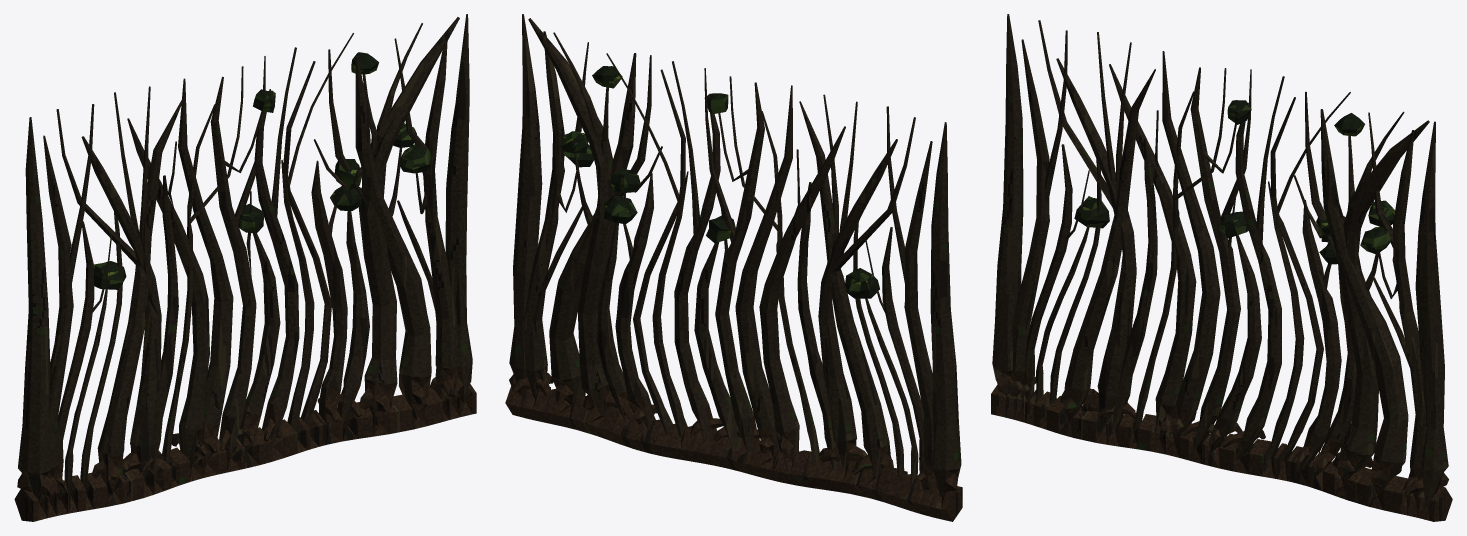
The model's file is forest_bars.glb.
3 renders of one model, left to right at view 1: azimuth 30°, elevation 25°; view 2: azimuth 150°, elevation 25°; view 3: azimuth 330°, elevation 25°, orthographic.
Visible parts, largest first — view 1: ForestBars; view 2: ForestBars; view 3: ForestBars.
Boxes of the visible parts, left/top/right/bottom form: ForestBars: left=14, top=14, right=476, bottom=521; ForestBars: left=505, top=14, right=962, bottom=521; ForestBars: left=991, top=14, right=1452, bottom=521.
Size of the model in its own units: 10.78 by 9.18 by 1.29.
Materials: 3 (3 with a texture image).
